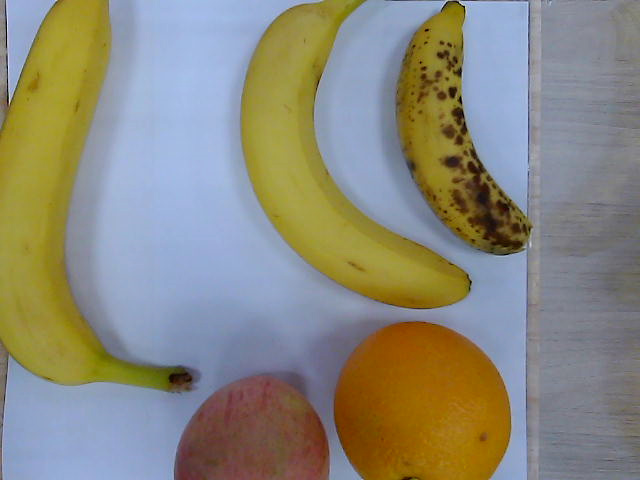fresh_apple: (173, 374, 331, 480)
fresh_banana: (244, 3, 473, 308), (1, 1, 114, 387)
fresh_orange: (334, 320, 511, 480)
rotten_banana: (396, 2, 536, 256)
